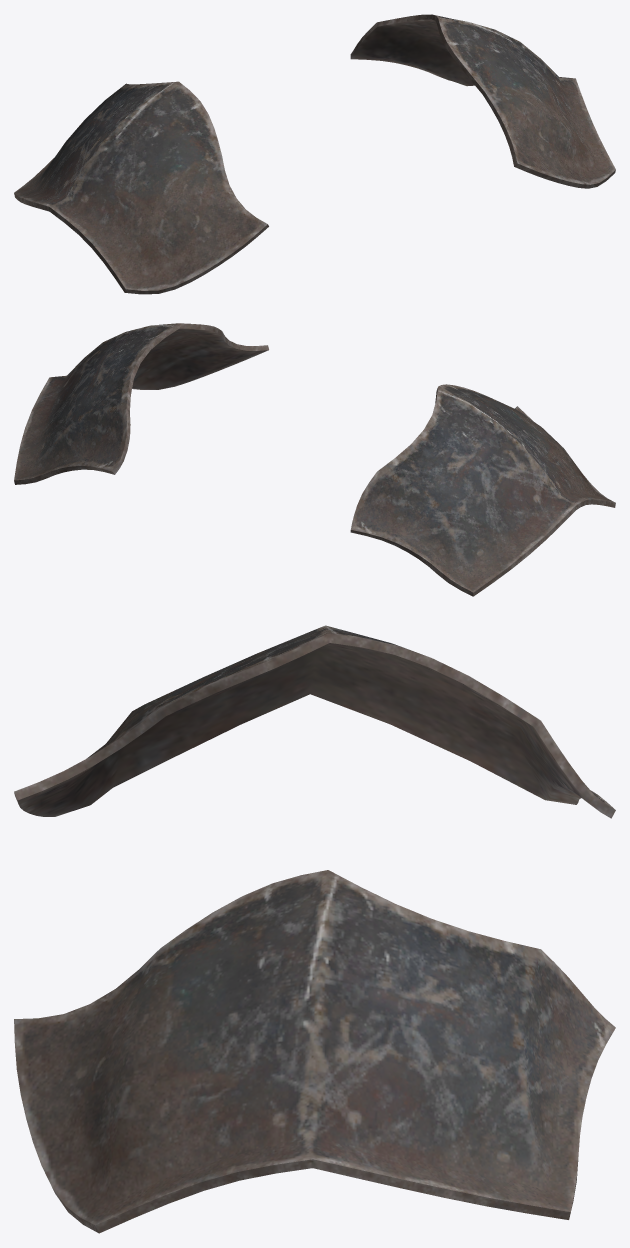
The model's file is sk_dg_uruk_pauldron_med_a.fbx.
The picture shows the model from 3 angles, top to bottom: view 1: azimuth 30°, elevation 25°; view 2: azimuth 150°, elevation 25°; view 3: azimuth 270°, elevation 25°; orthographic projection. The views are drawn at different scales.
Visible parts, largest first — view 1: sk_dg_uruk_pauldron_med_a; view 2: sk_dg_uruk_pauldron_med_a; view 3: sk_dg_uruk_pauldron_med_a.
Boxes of the visible parts, left/top/right/bottom form: sk_dg_uruk_pauldron_med_a: left=14, top=14, right=615, bottom=294; sk_dg_uruk_pauldron_med_a: left=14, top=323, right=615, bottom=596; sk_dg_uruk_pauldron_med_a: left=14, top=625, right=615, bottom=1233.
Bounding box in the file's own units: 0.5869 × 0.3109 × 0.1489.
1 material, 1 textured.
